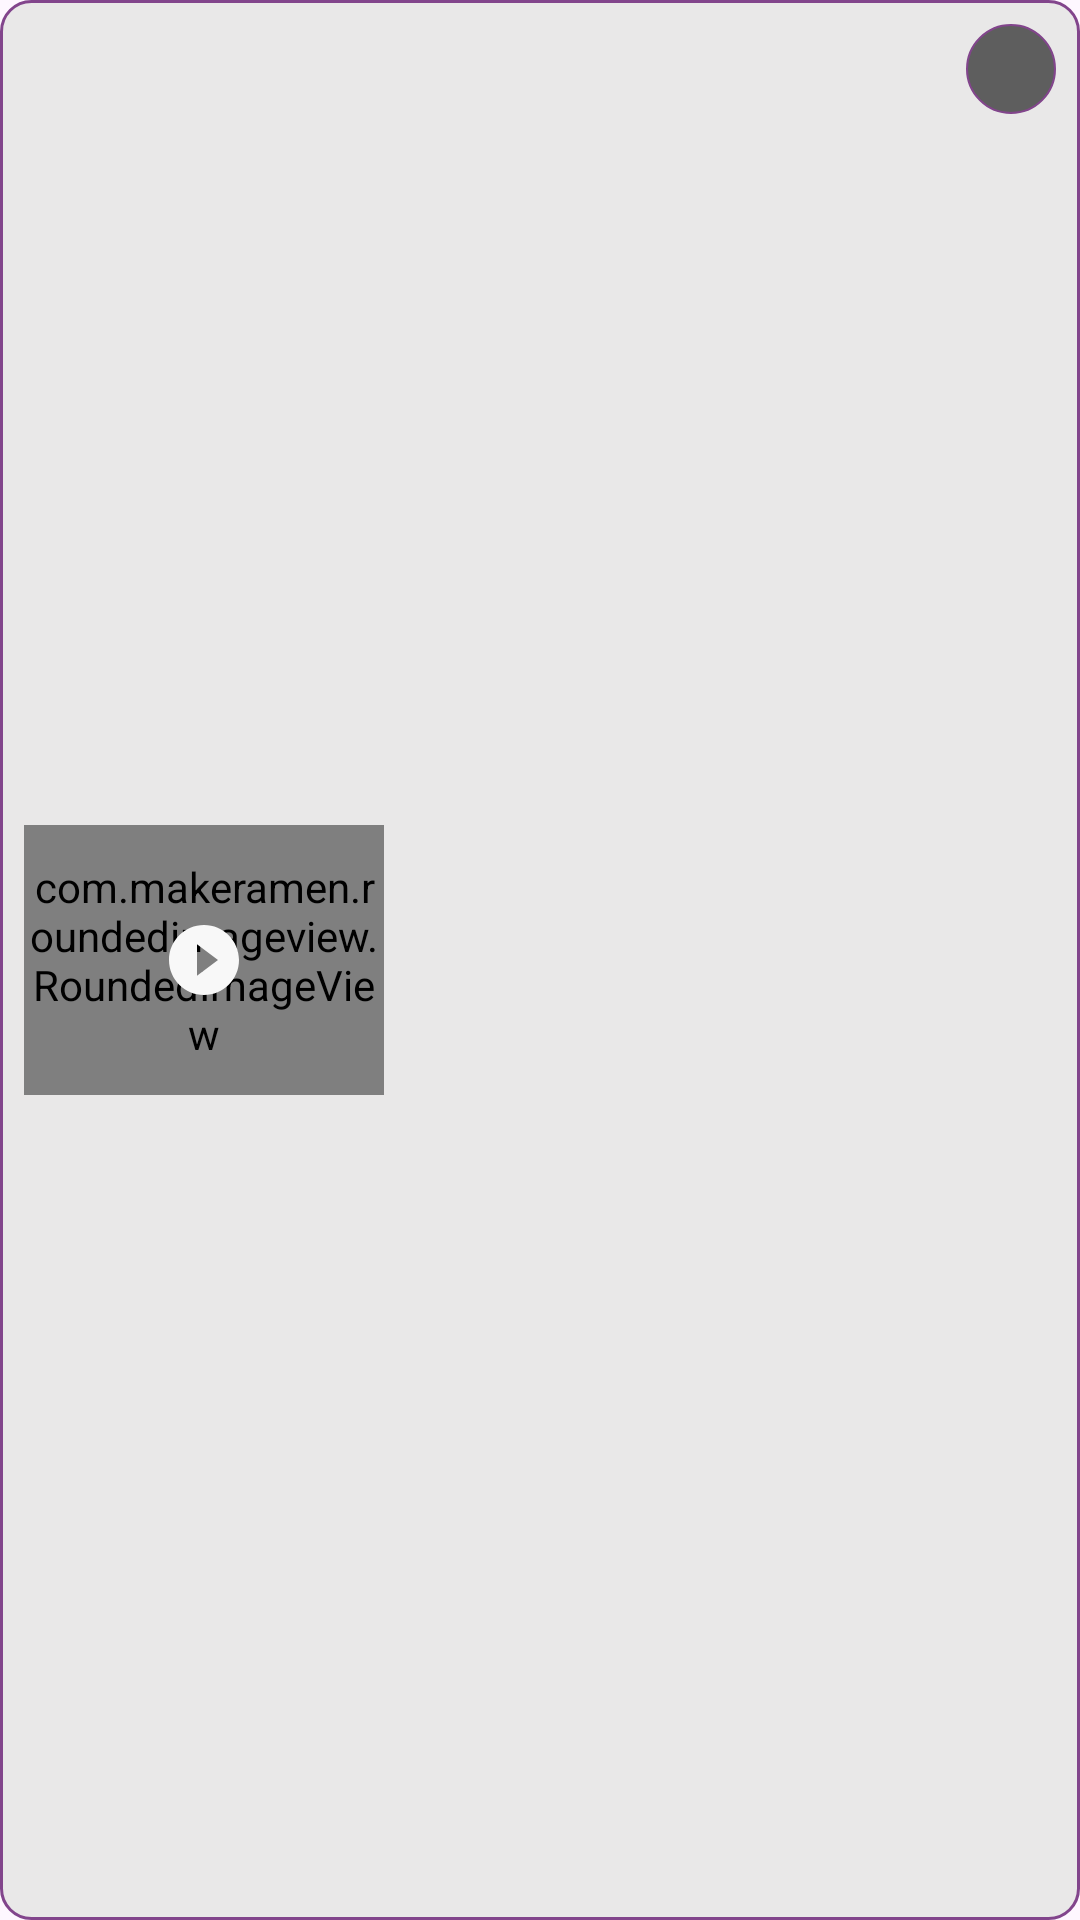

Screen size 1080w x 1920h. Icon name, then its center in pixels as point (x, y):
play circle: point (206, 962)
